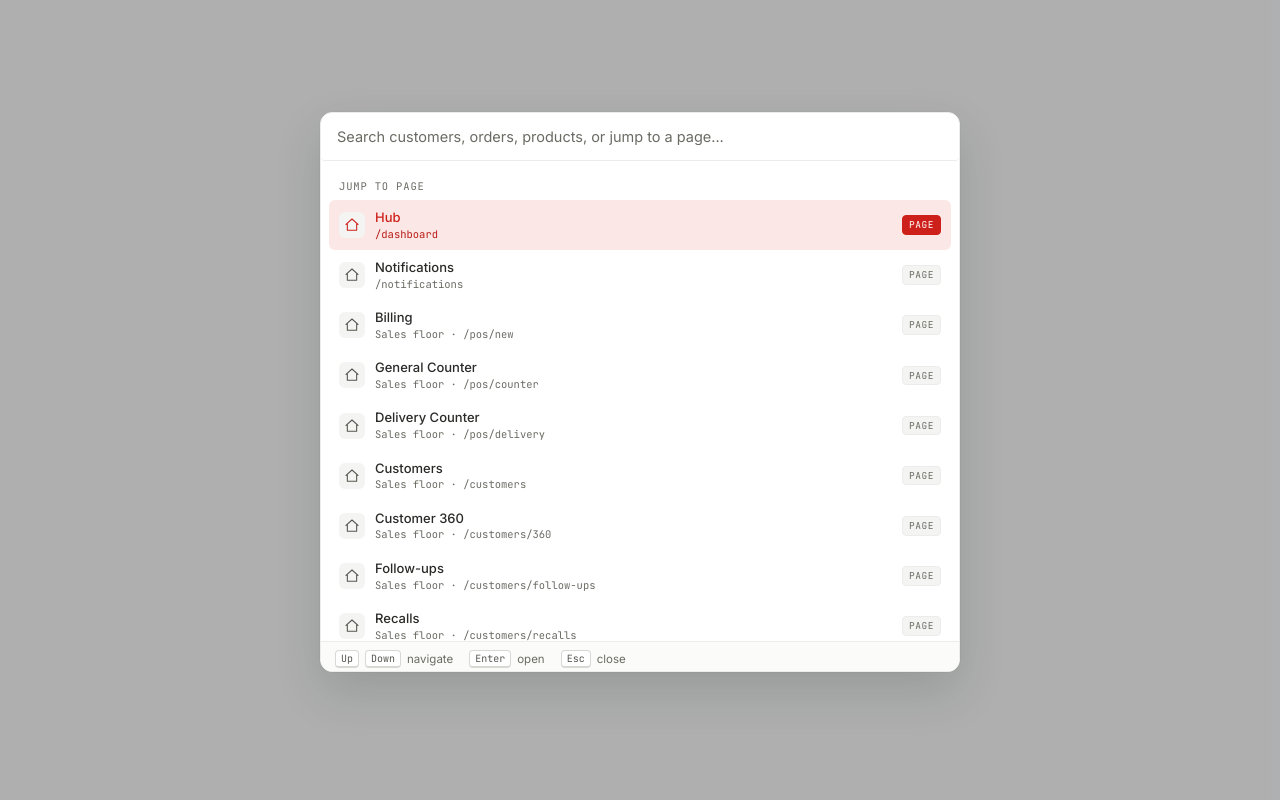
Scenario: CommandPalette - pages moved off the menu › SUPERADMIN finds Power Grid
The width and height of the screenshot is (1280, 800).
Type "power grid" into the dropdown.
click(640, 137); type("power grid")  # box left=321, top=113, right=959, bottom=161
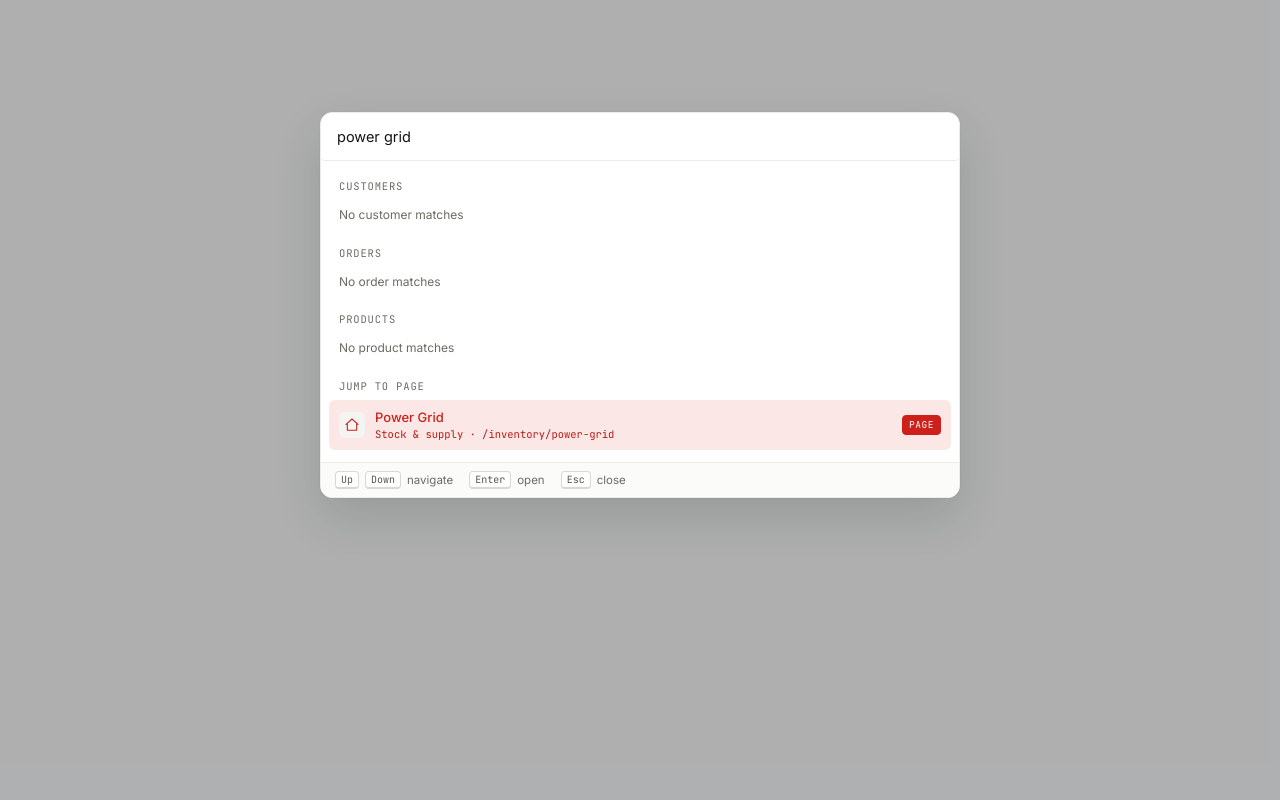
Expected: the text "/inventory/power-grid" is shown, left=482, top=427, right=614, bottom=441
